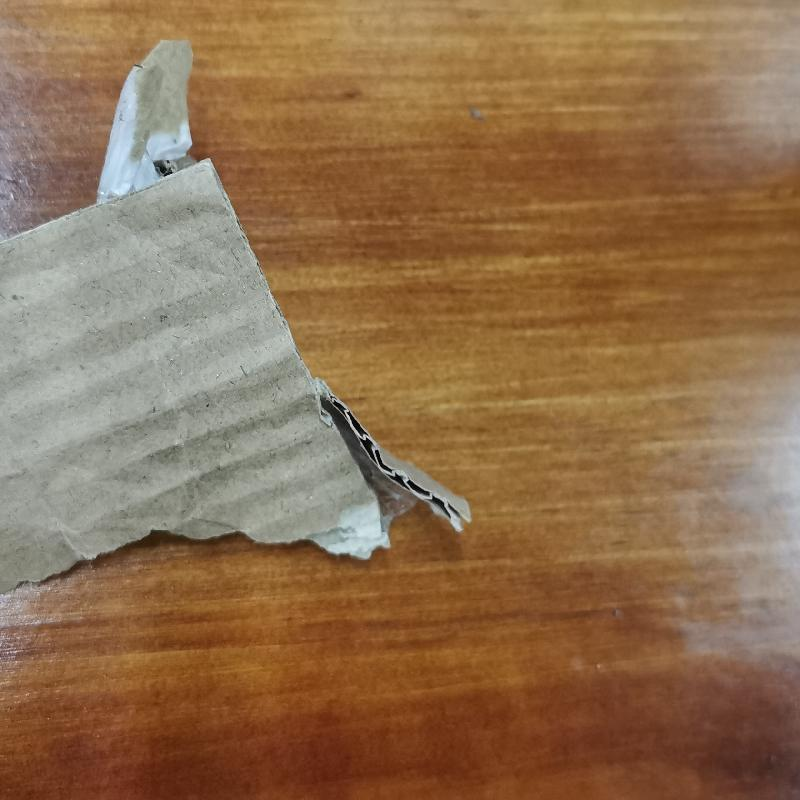boxes: (4, 42, 471, 596)
